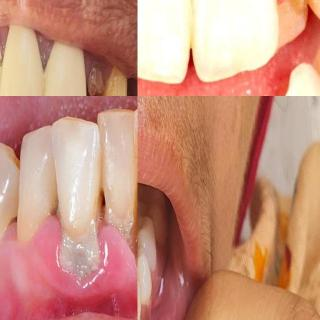Gum Swelling: (0, 215, 138, 301)
calculus: (56, 218, 102, 282), (109, 202, 138, 270), (274, 0, 314, 37), (1, 200, 24, 250), (44, 192, 70, 235)
cavities: (127, 81, 137, 96)
maligned: (52, 119, 100, 258), (98, 103, 138, 245), (270, 0, 314, 50)
